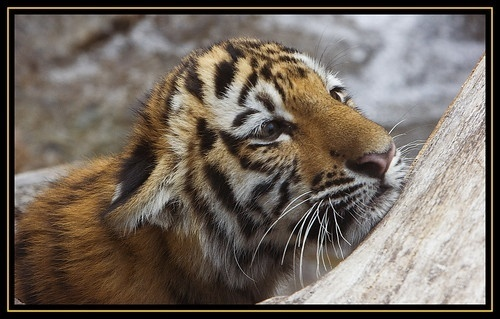tigre: (15, 34, 418, 303)
